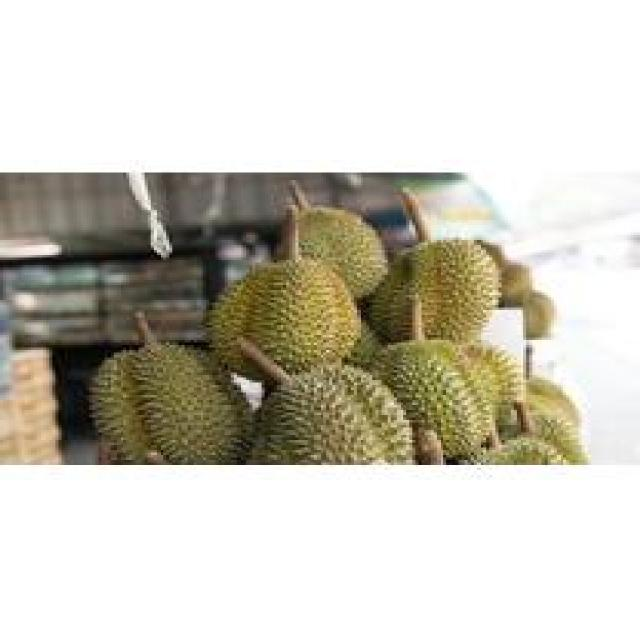fruit: (194, 238, 378, 400), (77, 333, 265, 465)
